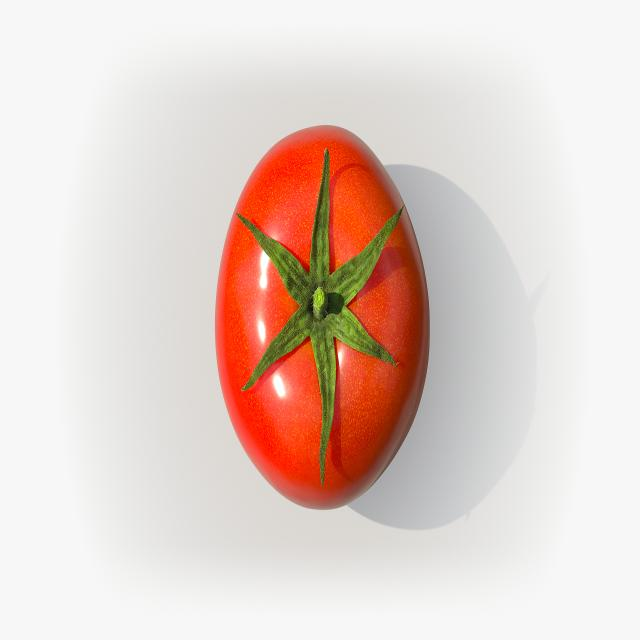Tomato: (211, 121, 433, 517)
